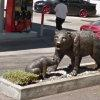Statue: (27, 22, 100, 81)
